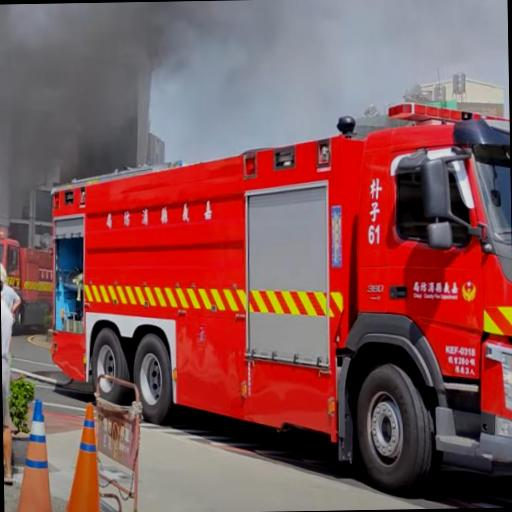fire truck: (51, 104, 512, 494)
